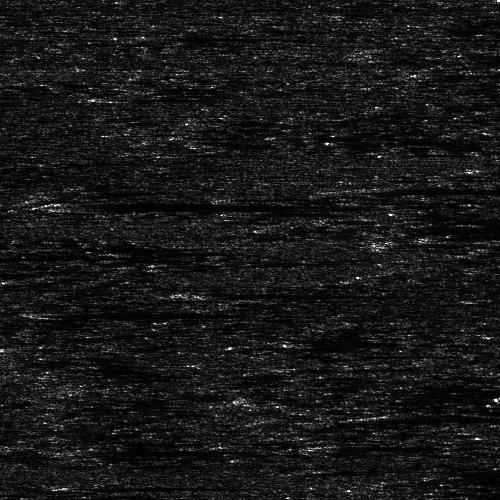object: (0, 198, 144, 211), (138, 290, 231, 299), (343, 411, 406, 422), (273, 338, 346, 347), (321, 441, 374, 450), (29, 309, 70, 318), (78, 94, 141, 99), (348, 186, 401, 191), (273, 365, 314, 370), (51, 482, 92, 487), (479, 393, 500, 400), (152, 29, 163, 42)
shadow: (66, 198, 323, 211), (0, 251, 208, 262), (185, 290, 399, 299), (50, 309, 253, 318), (375, 411, 500, 422), (348, 441, 500, 450), (72, 482, 269, 487), (310, 338, 417, 347), (0, 493, 123, 500), (294, 365, 454, 370), (158, 29, 212, 42), (375, 186, 500, 191), (110, 94, 216, 99)
